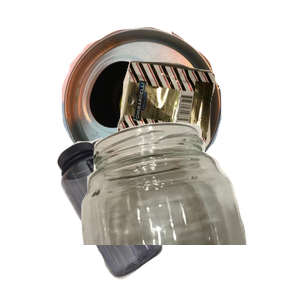glass: (74, 120, 300, 300)
metal: (59, 10, 273, 189)
plastic: (54, 136, 209, 300)
trash: (115, 58, 300, 200)
